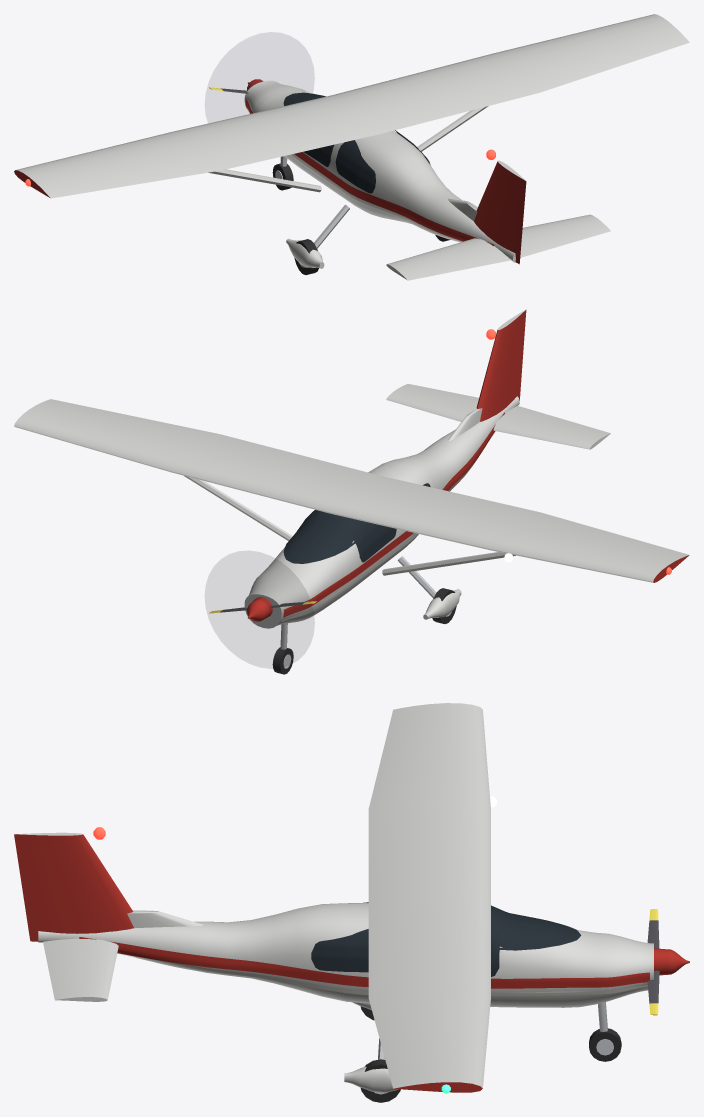
The model's file is skylark.glb.
The picture shows the model from 3 angles, top to bottom: view 1: azimuth 30°, elevation 25°; view 2: azimuth 150°, elevation 25°; view 3: azimuth 270°, elevation 25°; orthographic projection. The views are drawn at different scales.
Parts seen in each view (by area): view 1: Body, PropBlur, Gear; view 2: Body, PropBlur, Gear, Prop; view 3: Body, Gear, Prop.
Boxes of the visible parts, box(x1,y1,x2,y2) form: Body: box(14, 14, 689, 280); PropBlur: box(205, 32, 314, 122); Gear: box(272, 156, 450, 274); Body: box(14, 309, 689, 628); PropBlur: box(205, 551, 314, 668); Gear: box(272, 556, 461, 674); Prop: box(209, 597, 316, 621); Body: box(14, 703, 653, 1093); Gear: box(344, 1002, 621, 1102); Prop: box(647, 909, 689, 1015).
Bounding box in the file's own units: 11.11 × 3.14 × 8.29.
